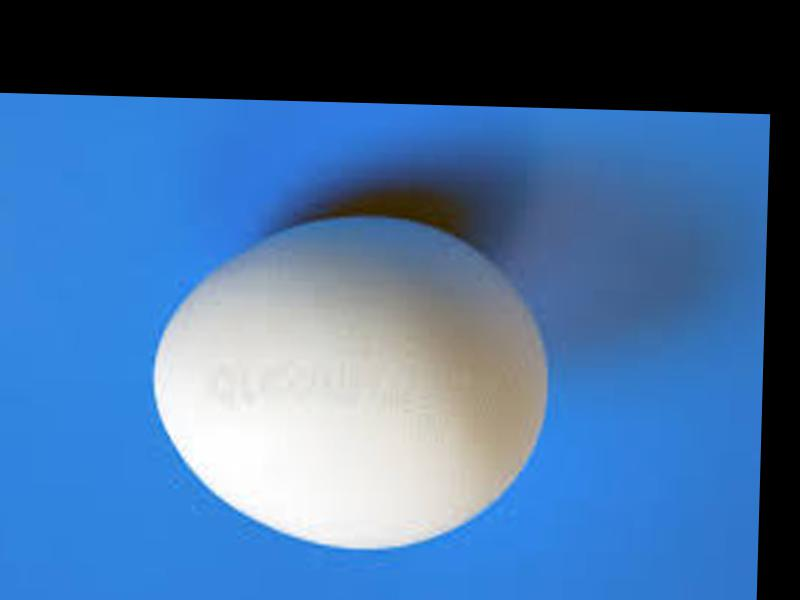Eggs: (144, 208, 555, 553)
